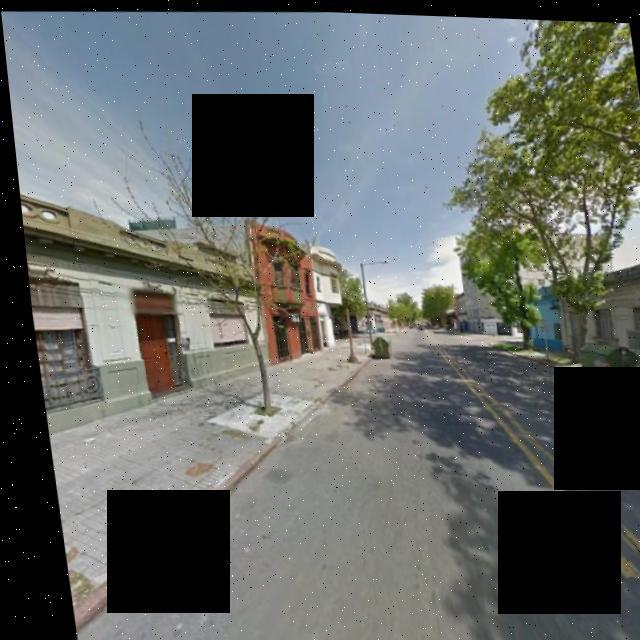bin: (556, 327, 640, 384), (357, 328, 391, 359)
